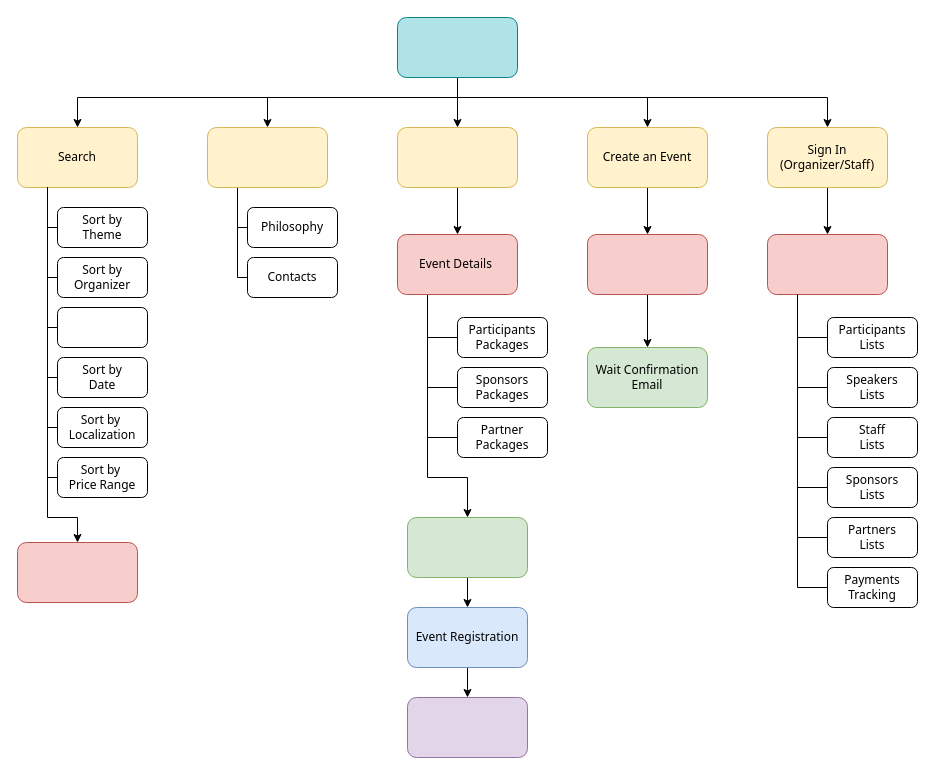
The diagram is 936 pixels wide and 775 high, and some of its shapes have lost their labels. Here are the shapes that lost their labels. From the top down, the centre of each, then its label:
point (457, 47): cBooking
point (267, 157): About
point (457, 157): Events (Announcements)
point (647, 264): Corporate Details Entry
point (827, 264): Conference Dashboard
point (102, 327): Sort by Speaker
point (467, 547): Event Role Selection
point (77, 572): Result of Search
point (467, 727): Successful Registration
